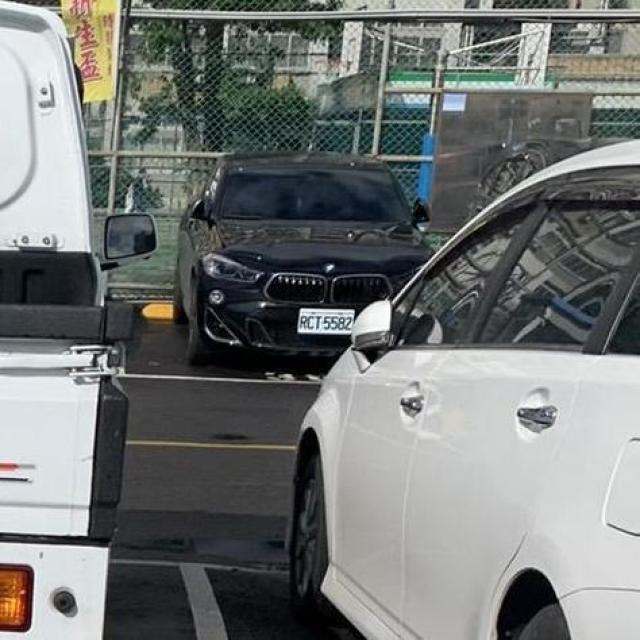W: (297, 305, 359, 339)
